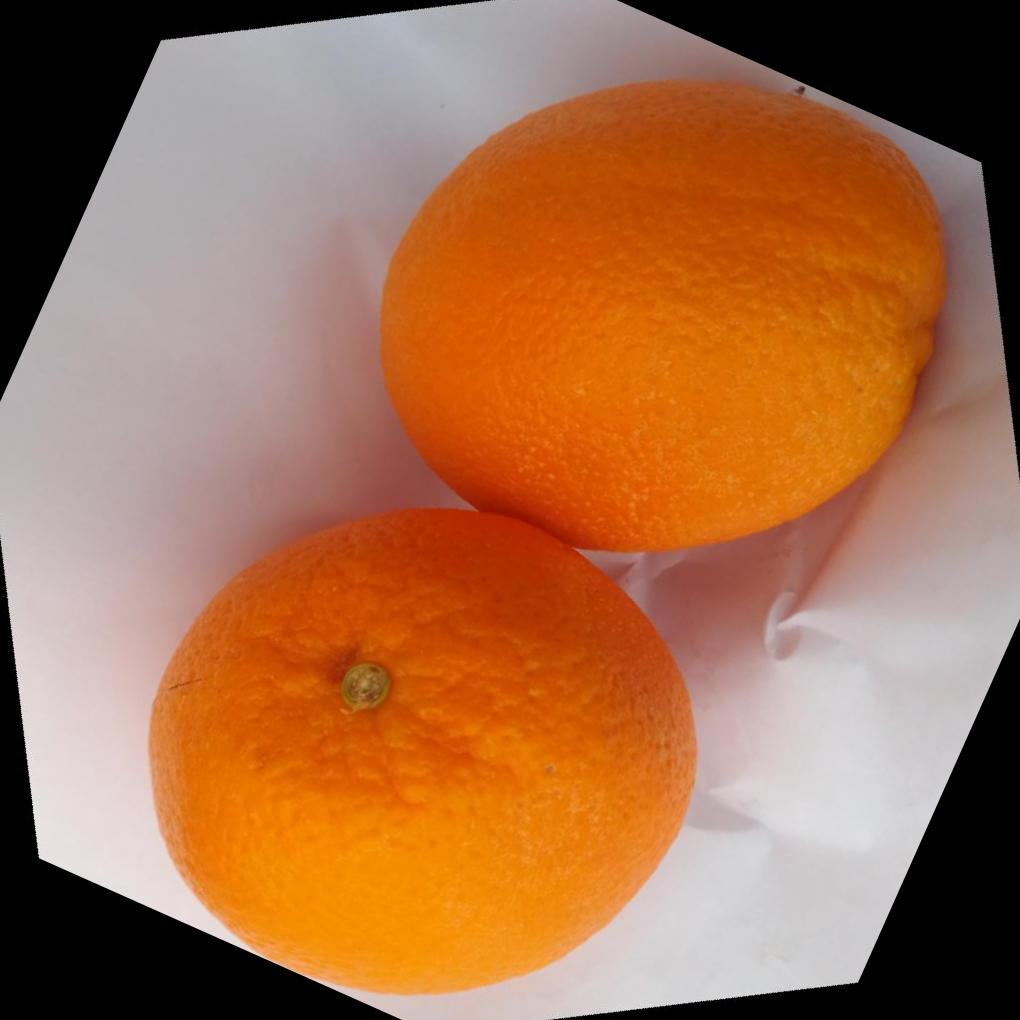FreshGuava: (148, 78, 952, 1002)
